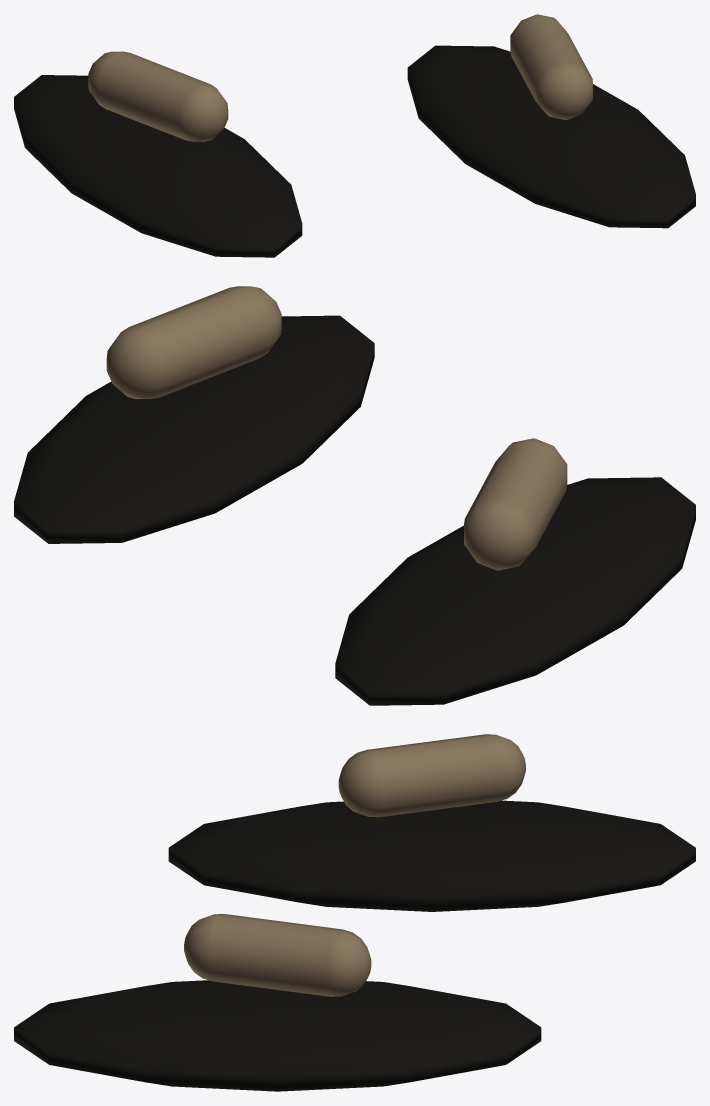
The model's file is slippers_pair.glb.
The picture shows the model from 3 angles, top to bottom: view 1: azimuth 30°, elevation 25°; view 2: azimuth 150°, elevation 25°; view 3: azimuth 270°, elevation 25°; orthographic projection. The views are drawn at different scales.
Parts seen in each view (by area): view 1: _MeshInstance3D_162, rubber__rubber_sole, fabric__fabric_strap, _MeshInstance3D_163; view 2: rubber__rubber_sole, _MeshInstance3D_162, _MeshInstance3D_163, fabric__fabric_strap; view 3: _MeshInstance3D_162, rubber__rubber_sole, fabric__fabric_strap, _MeshInstance3D_163.
Part boxes in pixels (x1,y1,x2,y2): _MeshInstance3D_162: (407, 45, 695, 228); rubber__rubber_sole: (14, 75, 302, 257); fabric__fabric_strap: (88, 51, 228, 141); _MeshInstance3D_163: (510, 14, 592, 119); rubber__rubber_sole: (335, 477, 695, 705); _MeshInstance3D_162: (14, 315, 374, 543); _MeshInstance3D_163: (106, 286, 281, 399); fabric__fabric_strap: (464, 438, 567, 570); _MeshInstance3D_162: (14, 980, 541, 1091); rubber__rubber_sole: (168, 800, 695, 911); fabric__fabric_strap: (338, 734, 525, 817); _MeshInstance3D_163: (184, 914, 371, 996).
Size of the model in its own units: 0.337 by 0.0805 by 0.353.
